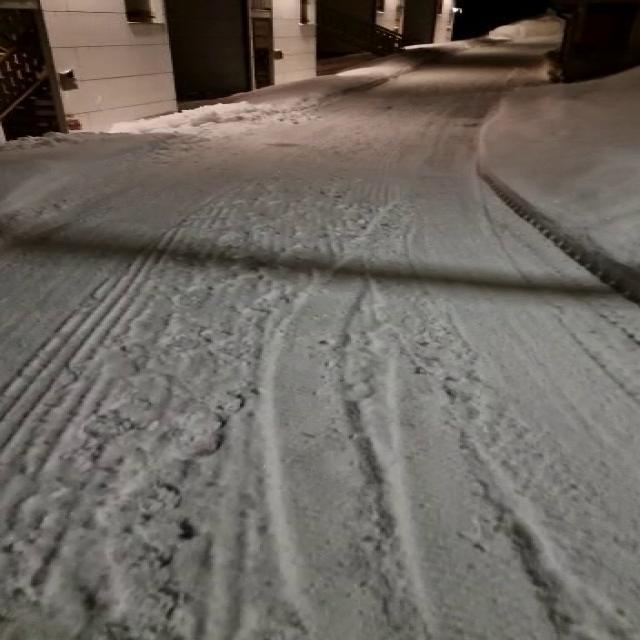path: (0, 45, 638, 640)
